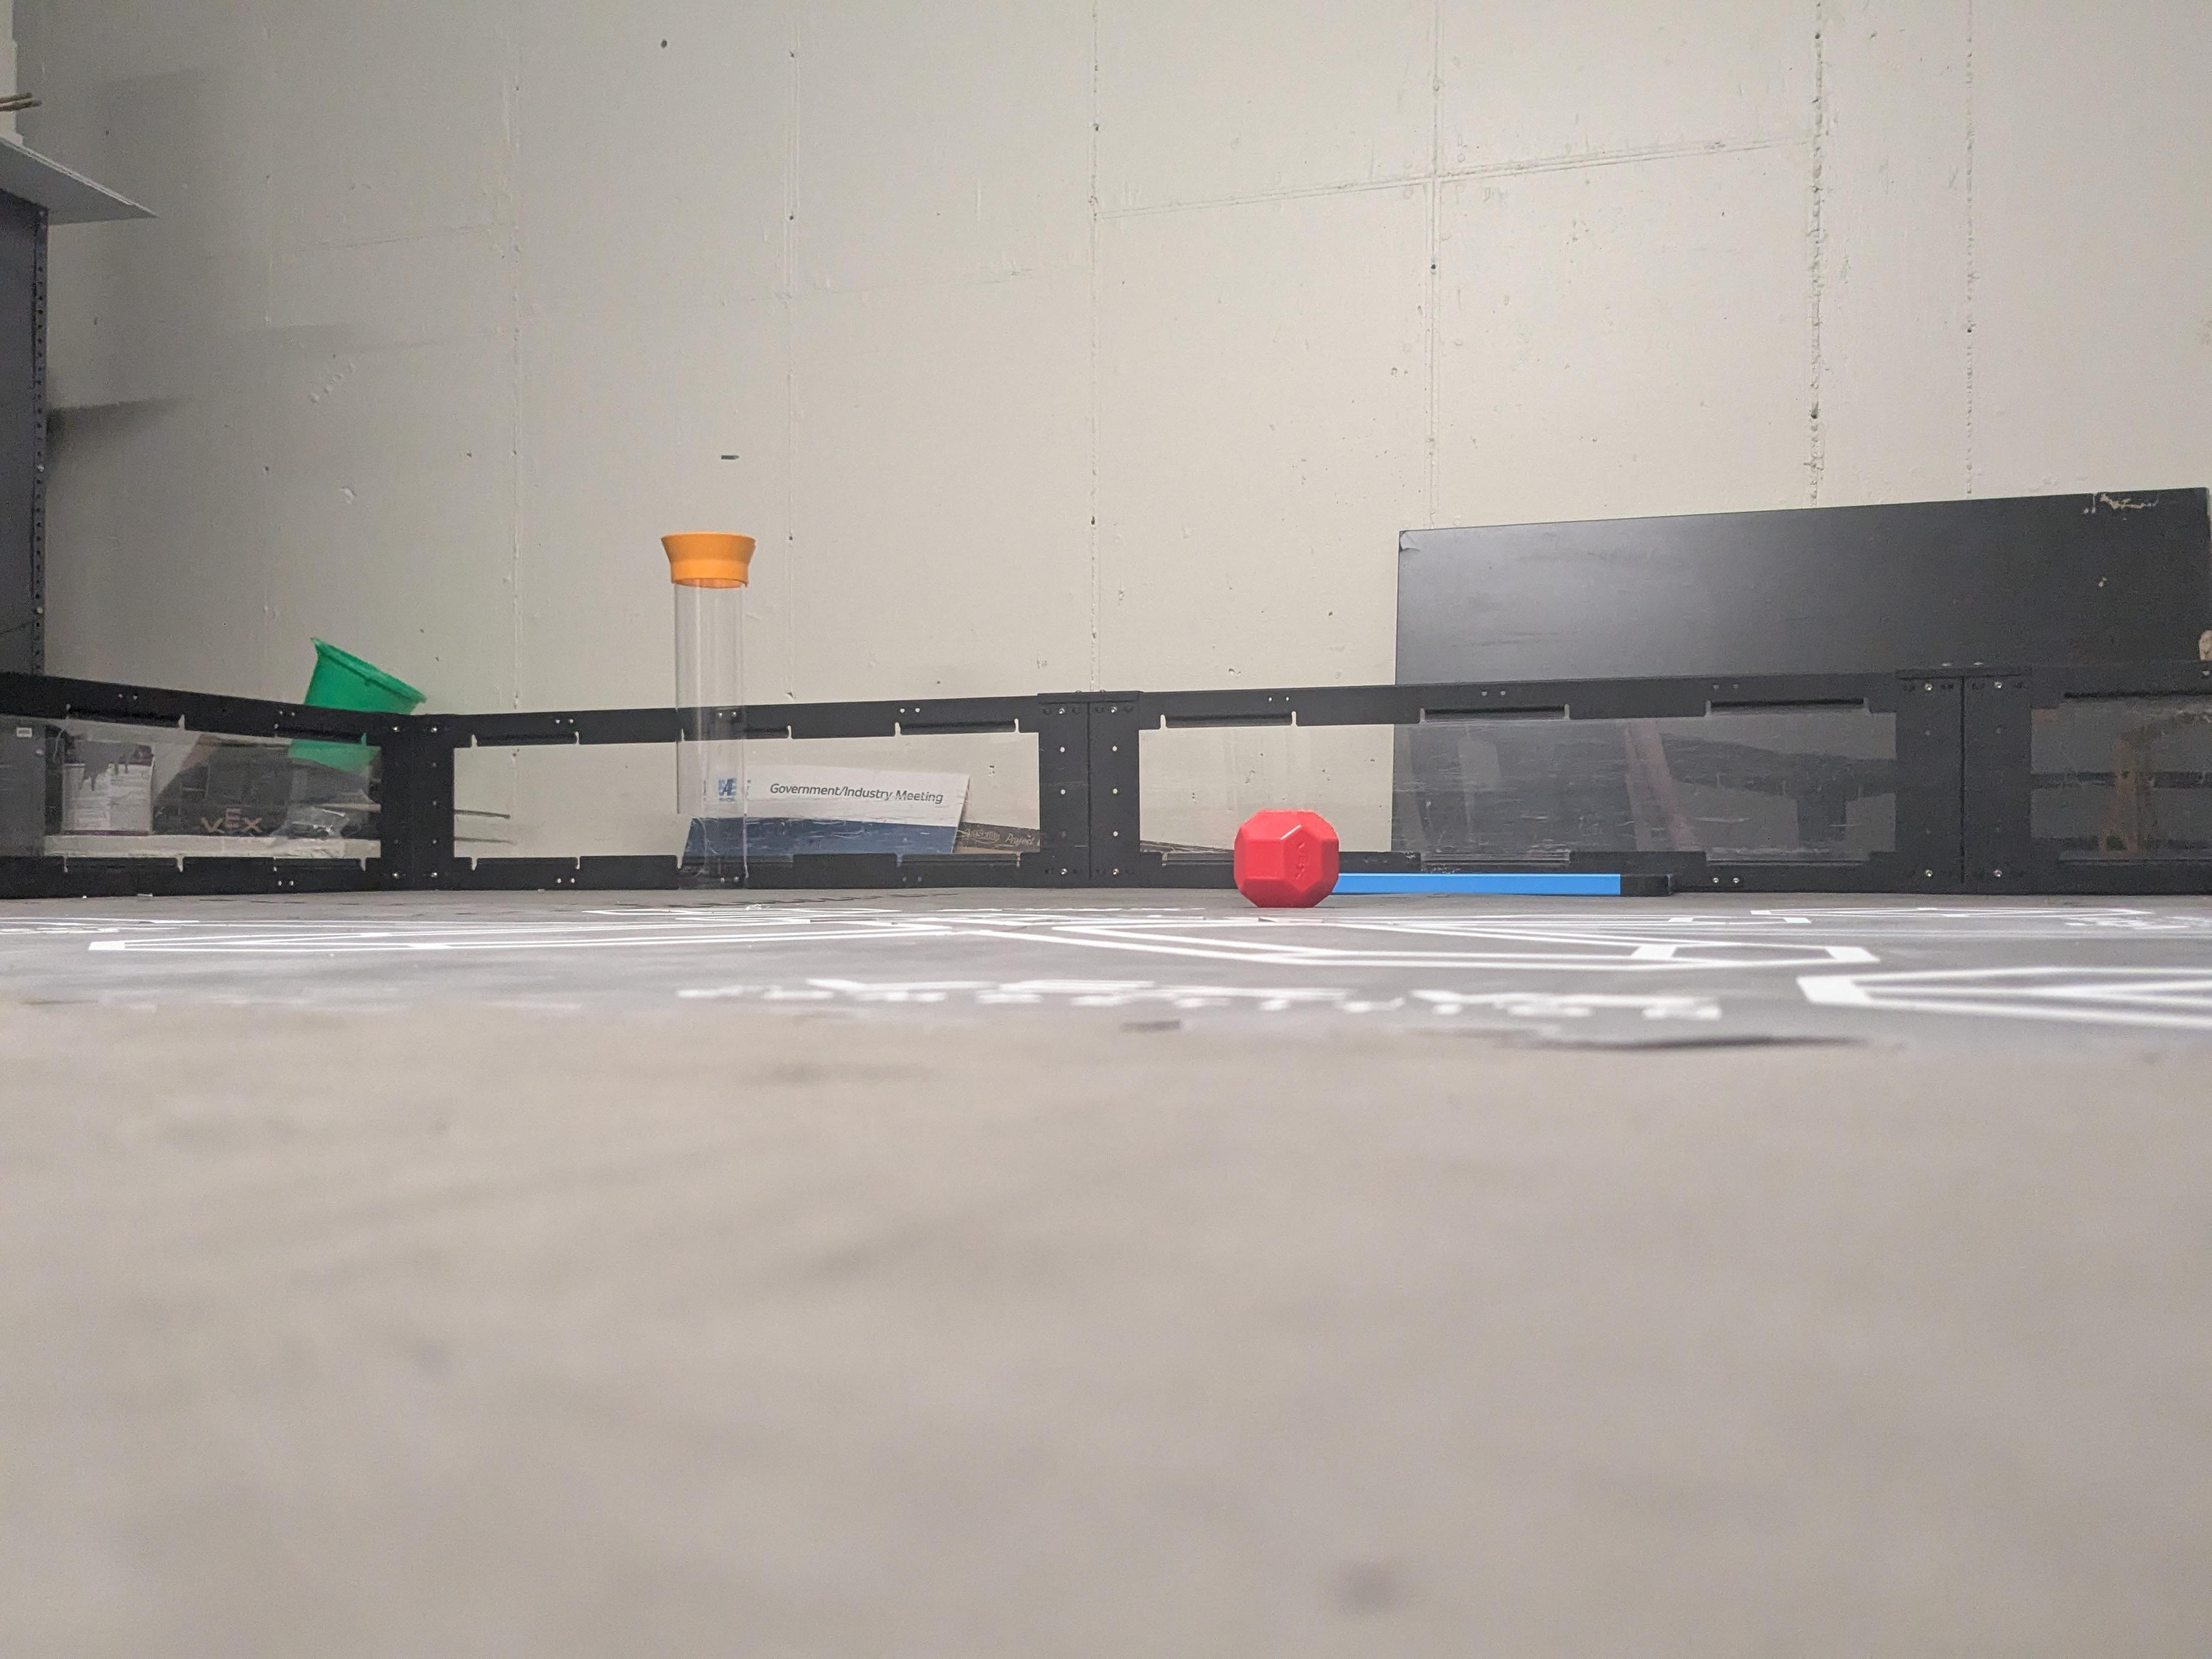Vex-Pieces-RED: (1233, 810, 1339, 908)
